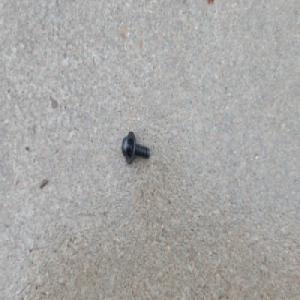BoltWasher: (120, 129, 150, 163)
